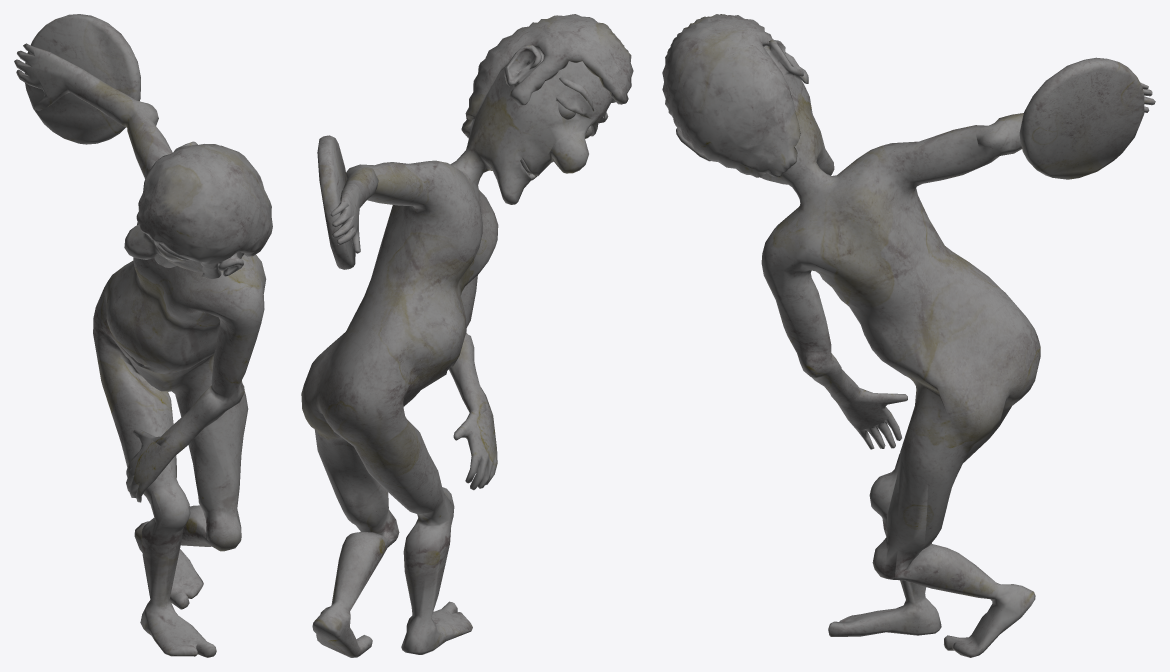
File: Statue.fbx
3 views of the same model, side by side, from view 1: azimuth 30°, elevation 25°; view 2: azimuth 150°, elevation 25°; view 3: azimuth 270°, elevation 25° (orthographic). The views are drawn at different scales.
Parts seen in each view (by area): view 1: StatueL; view 2: StatueL; view 3: StatueL.
Boxes of the visible parts, box(x1,y1,x2,y2) form: StatueL: box(14, 14, 272, 657); StatueL: box(301, 14, 633, 657); StatueL: box(662, 14, 1155, 657).
Size of the model in its own units: 60.09 by 159 by 122.
